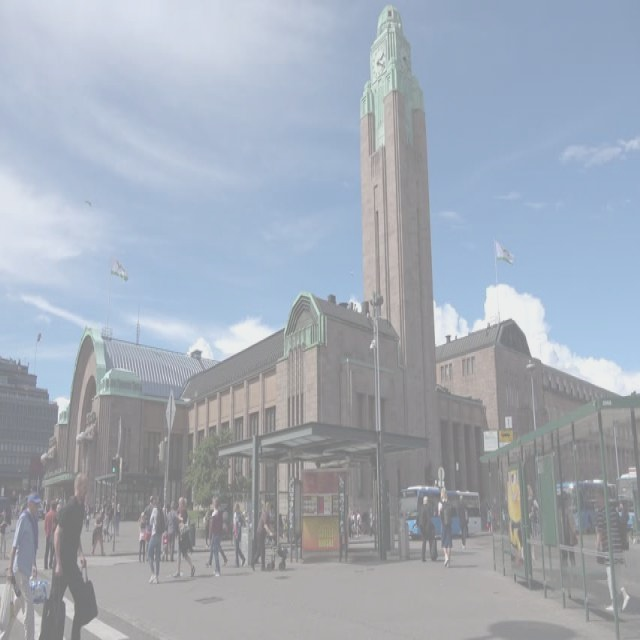pessoa: (40, 471, 100, 638), (1, 489, 42, 639), (592, 482, 631, 614), (173, 494, 197, 582), (75, 406, 99, 489), (250, 498, 276, 574), (146, 494, 166, 586), (558, 490, 579, 568), (204, 502, 228, 570), (437, 484, 453, 570), (208, 493, 224, 578), (43, 498, 58, 570), (232, 500, 247, 570), (526, 474, 541, 542), (142, 494, 156, 566), (420, 493, 433, 563), (616, 494, 632, 550), (348, 506, 376, 538), (41, 432, 58, 484), (166, 498, 180, 560), (486, 504, 510, 540), (104, 498, 122, 544), (90, 511, 105, 558), (458, 493, 470, 551), (136, 510, 148, 564), (0, 505, 9, 560), (204, 506, 212, 550), (161, 525, 170, 563), (40, 494, 51, 518), (84, 501, 91, 532), (54, 494, 64, 514), (92, 500, 100, 516), (84, 500, 88, 524)
